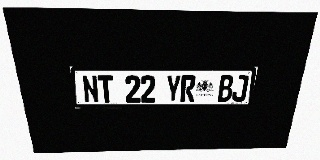2: (125, 75, 141, 102), (140, 75, 155, 102)
B: (217, 75, 234, 102)
J: (231, 75, 249, 102)
N: (81, 75, 99, 103)
R: (180, 75, 196, 102)
T: (97, 75, 114, 103)
Y: (166, 75, 181, 102)
